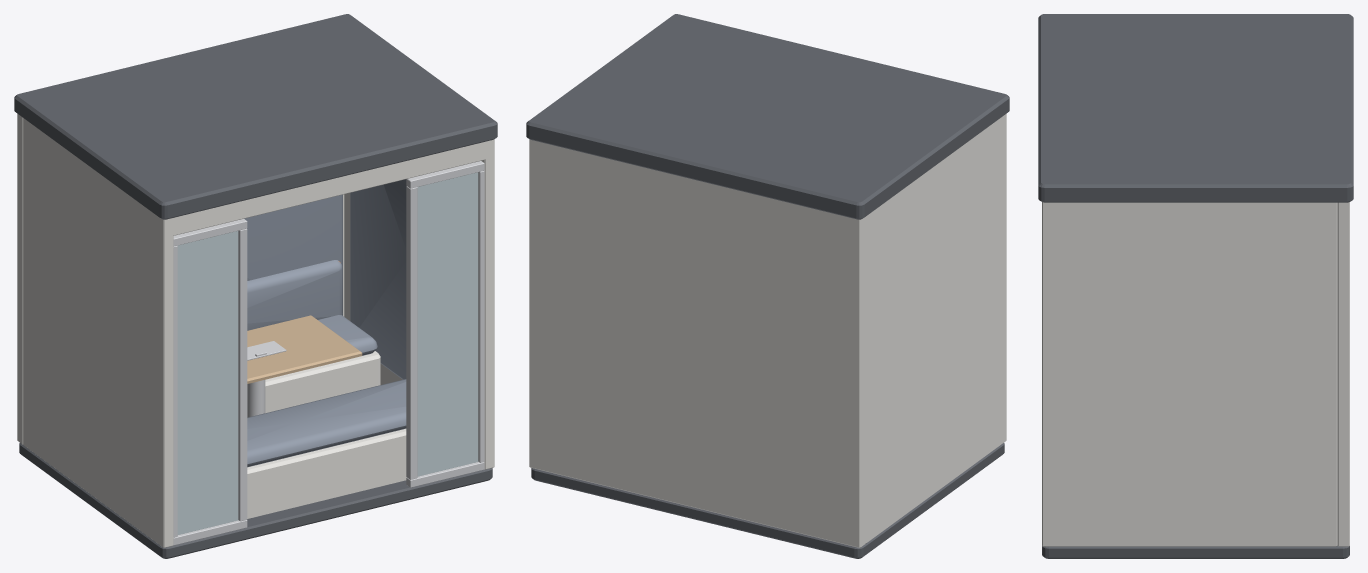
File: downtown-office-interiors-meeting-pod-4-person-fc000e18__17023.glb
The picture shows the model from 3 angles, left to right: view 1: azimuth 30°, elevation 25°; view 2: azimuth 150°, elevation 25°; view 3: azimuth 270°, elevation 25°; orthographic projection. The views are drawn at different scales.
Visible parts, largest first — view 1: meeting-pod-4-person; view 2: meeting-pod-4-person; view 3: meeting-pod-4-person.
Boxes of the visible parts, <box> form: meeting-pod-4-person: <box>14,14,497,558</box>; meeting-pod-4-person: <box>526,14,1009,558</box>; meeting-pod-4-person: <box>1038,14,1353,558</box>.
Bounding box in the file's own units: 2.28 × 2.32 × 1.76.
